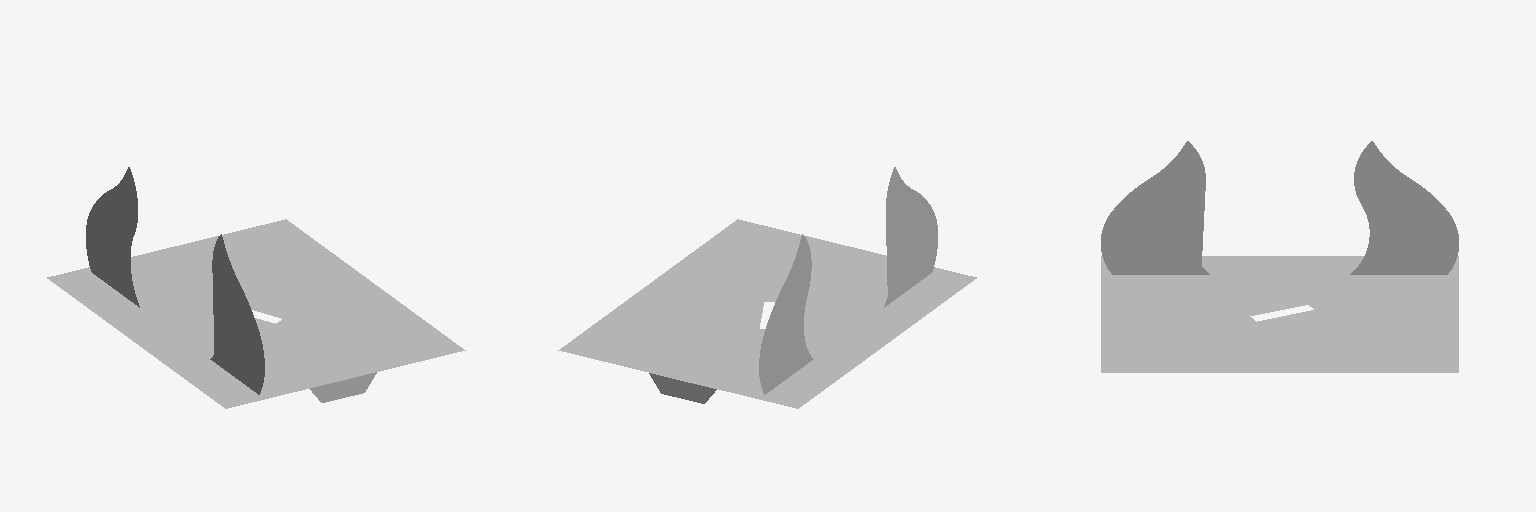
Rendered from Liquid Galaxy Voice Top Object.obj.
The picture shows the model from 3 angles: view 1: azimuth 30°, elevation 25°; view 2: azimuth 150°, elevation 25°; view 3: azimuth 270°, elevation 25°; orthographic projection.
Parts seen in each view (by area): view 1: Mesh1 Model; view 2: Mesh1 Model, Mesh2 Model; view 3: Mesh1 Model.
Part boxes in pixels (x1,y1,x2,y2): Mesh1 Model: (47,167,465,408); Mesh1 Model: (558,167,976,408); Mesh2 Model: (649,373,716,403); Mesh1 Model: (1101,141,1458,372).
Bounding box in the file's own units: 215 × 131 × 278.